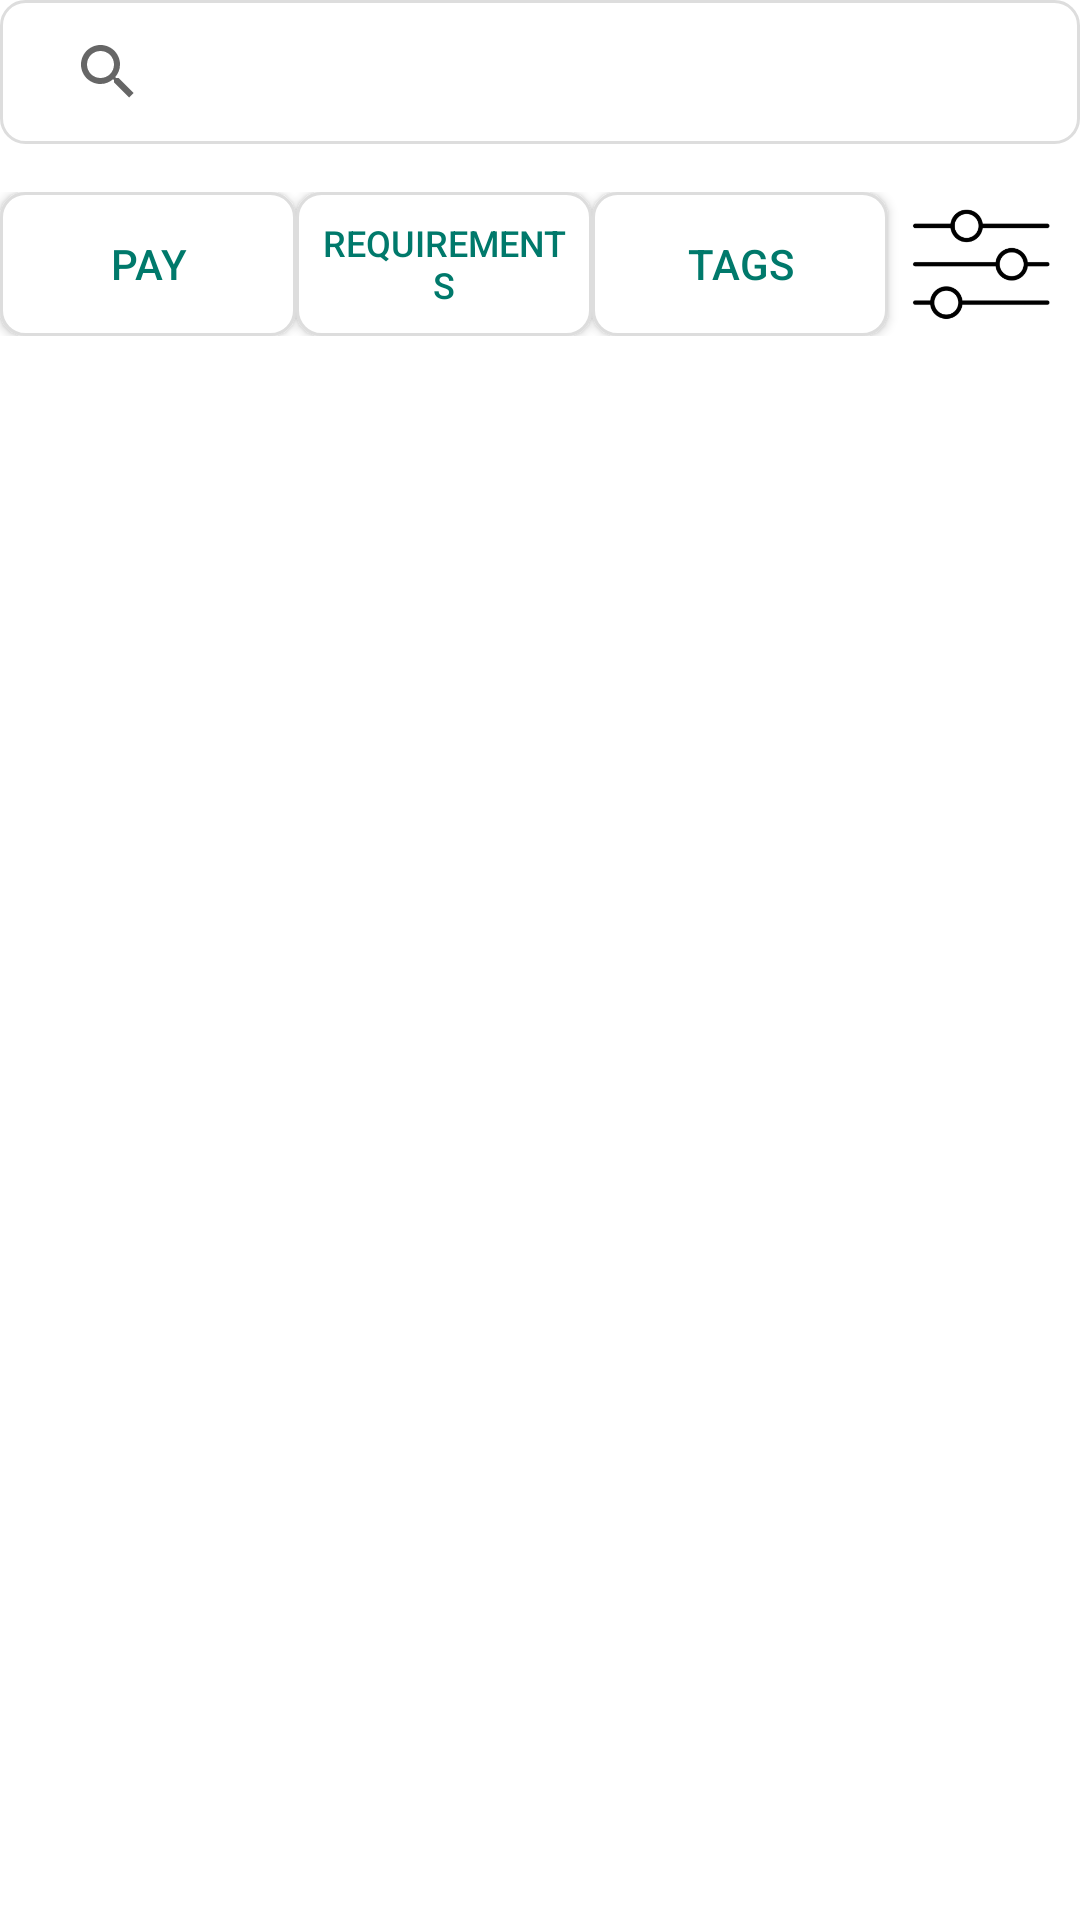

Where to tap for icons on this 1080×1920 app screen, as [x,y]:
Filter: [981,264]
